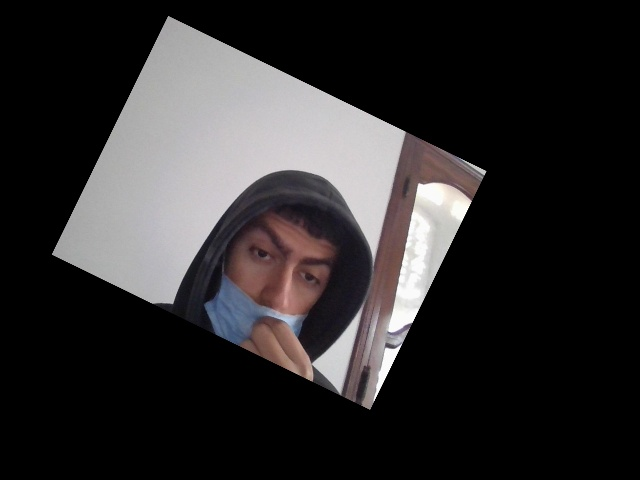mask_weared_incorrect: (208, 196, 343, 357)
